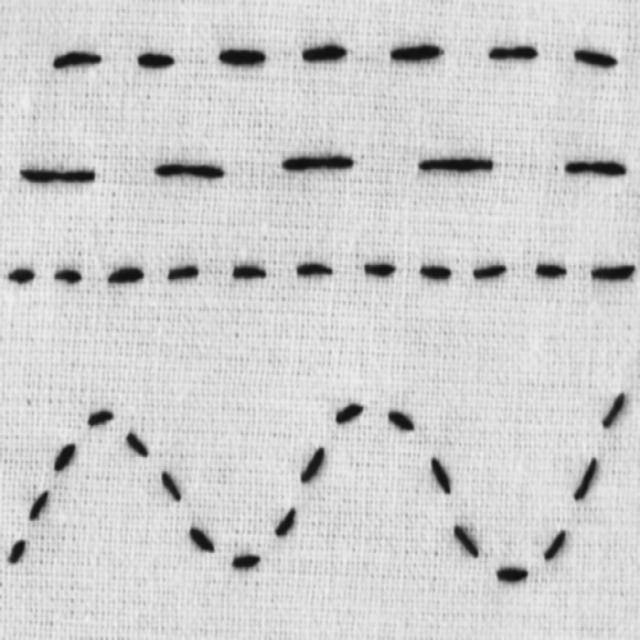stitch: (419, 156, 494, 172), (282, 156, 354, 171), (20, 168, 95, 182), (155, 163, 224, 178), (574, 457, 598, 500), (391, 44, 442, 61), (301, 446, 325, 482), (602, 392, 626, 427), (54, 51, 101, 68), (565, 161, 626, 174), (219, 49, 265, 66), (302, 44, 346, 61), (454, 527, 479, 556), (591, 264, 635, 280), (575, 51, 618, 67), (489, 46, 538, 60), (138, 51, 175, 69), (432, 457, 450, 494), (108, 266, 144, 284), (544, 530, 565, 560), (336, 402, 364, 424), (161, 471, 181, 500), (474, 262, 506, 280), (126, 430, 148, 456), (275, 508, 295, 536), (496, 565, 528, 582), (190, 528, 214, 550), (55, 443, 74, 470), (296, 262, 332, 276), (389, 410, 414, 430), (30, 490, 47, 519), (169, 264, 199, 280), (234, 264, 266, 279), (420, 264, 451, 279), (536, 262, 566, 277), (232, 553, 260, 569), (365, 262, 396, 276), (9, 539, 26, 564), (88, 410, 114, 426), (9, 268, 35, 283), (55, 268, 81, 283)
